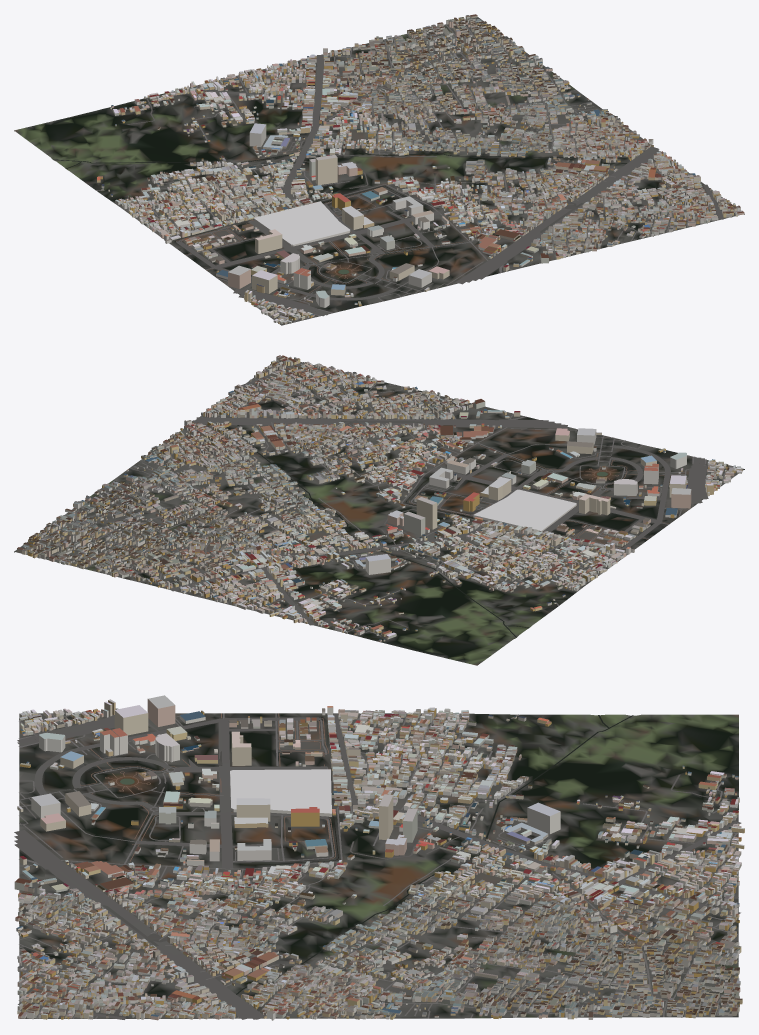
The picture shows the model from 3 angles, top to bottom: view 1: azimuth 30°, elevation 25°; view 2: azimuth 150°, elevation 25°; view 3: azimuth 270°, elevation 25°; orthographic projection. The views are drawn at different scales.
Visible parts, largest first — view 1: buildings, ground, roads, water; view 2: buildings, ground, roads, water; view 3: buildings, ground, roads, water.
Part boxes in pixels (x1,y1,x2,y2): buildings: (97, 14, 744, 324); ground: (14, 17, 744, 325); roads: (95, 21, 723, 322); water: (53, 148, 626, 274); buildings: (17, 355, 742, 641); ground: (14, 362, 744, 665); roads: (27, 362, 733, 636); water: (237, 425, 607, 637); buildings: (14, 695, 744, 1020); ground: (19, 713, 738, 1018); roads: (14, 713, 741, 1019); water: (120, 715, 633, 994).
Size of the model in its own units: 1421 by 76.46 by 1423.
